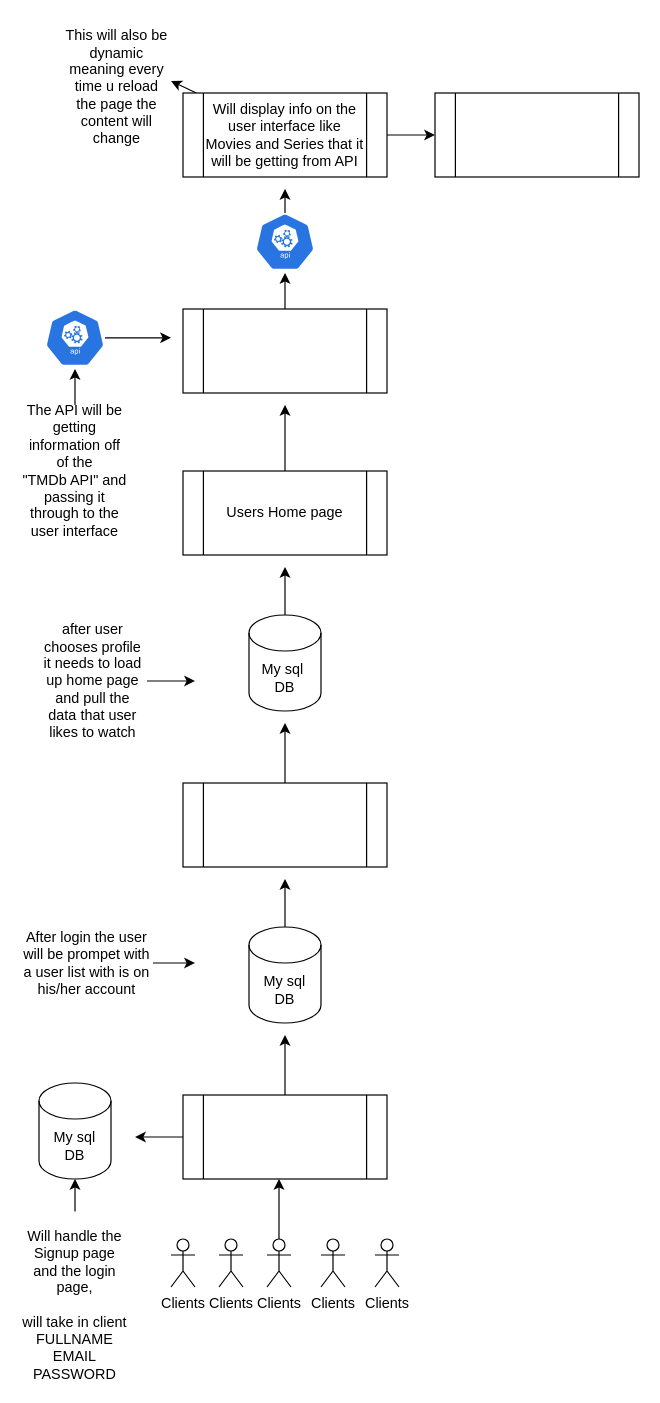
This 660x1403 diagram has some shape labels left out. The shapes that lost their labels are listed below. From the top down, each one's centre as x and y in pixels, then its label:
point 536,134: User Will be a
point 284,350: Load.....
point 284,824: user profile
point 284,1136: Login / Signup page
